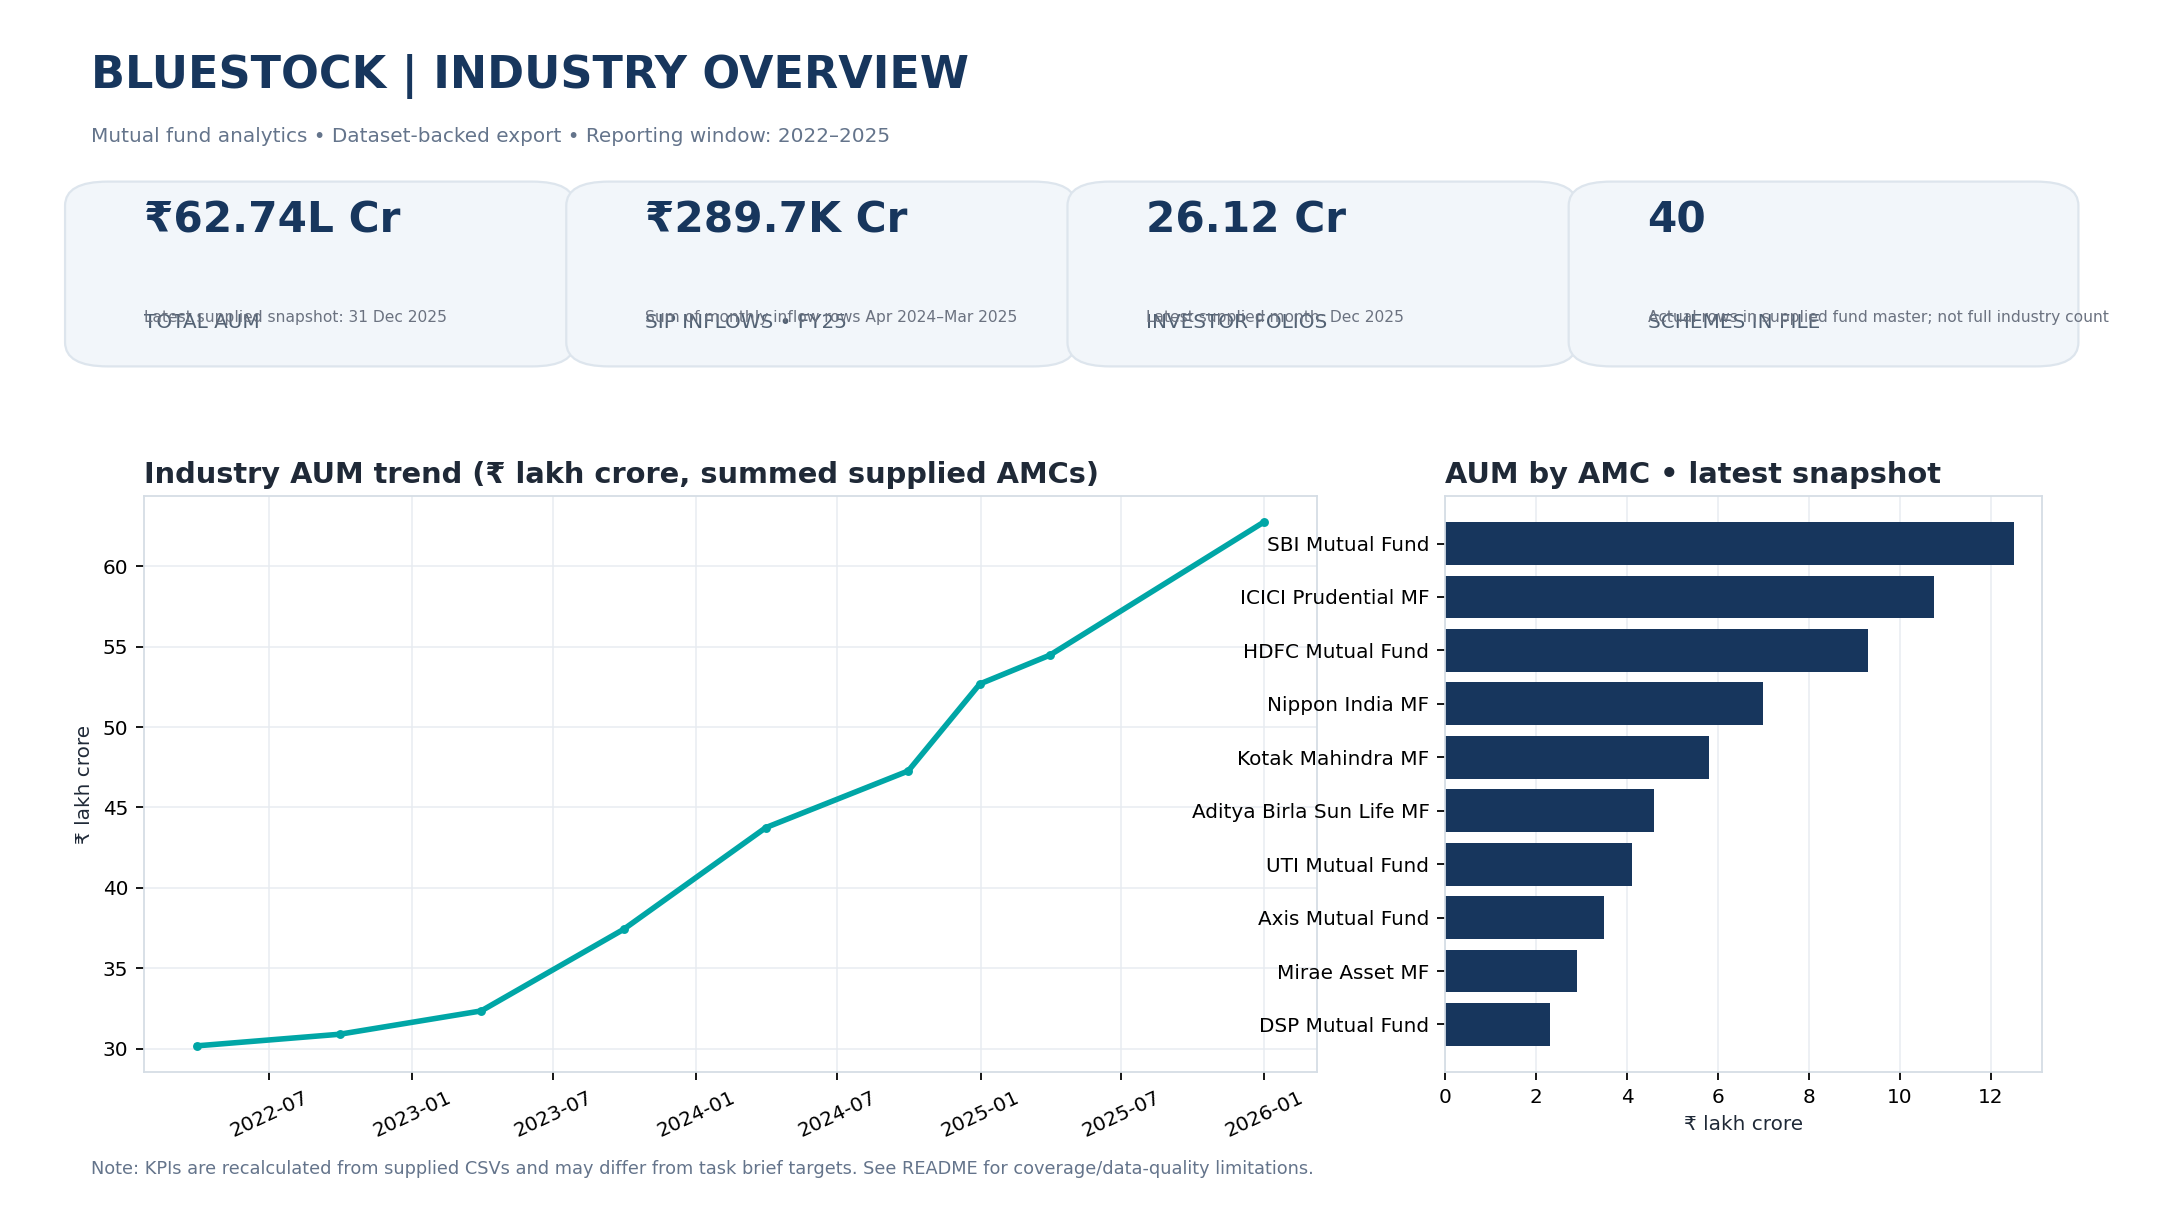

The dashboard page shown, as its layout file describes it:
{"tool":"powerbi","page":{"name":"Industry Overview","canvas":[1920,1080],"ordinal":0},"visuals":[{"type":"lineChart","title":"Industry AUM Trend (2022–2025)","fields":{"Category":["03_aum_by_fund_house.date"],"Y":["Sum(03_aum_by_fund_house.aum_lakh_crore)"]},"box":[10.3,0,1027.1,539.3],"z":0},{"type":"clusteredBarChart","title":"AUM by Fund House","fields":{"Category":["03_aum_by_fund_house.fund_house"],"Y":["Sum(03_aum_by_fund_house.aum_lakh_crore)"]},"box":[10,549,1027,531],"z":1}]}

Visuals, with their boxes in screenshot pixels (x1, y1, x2, y2), scaled from the page's 1920x1080 canvas onto the 2164x1232 screenshot:
"Industry AUM Trend (2022–2025)" lineChart: Rect(12, 0, 1169, 615)
"AUM by Fund House" clusteredBarChart: Rect(11, 626, 1169, 1231)
